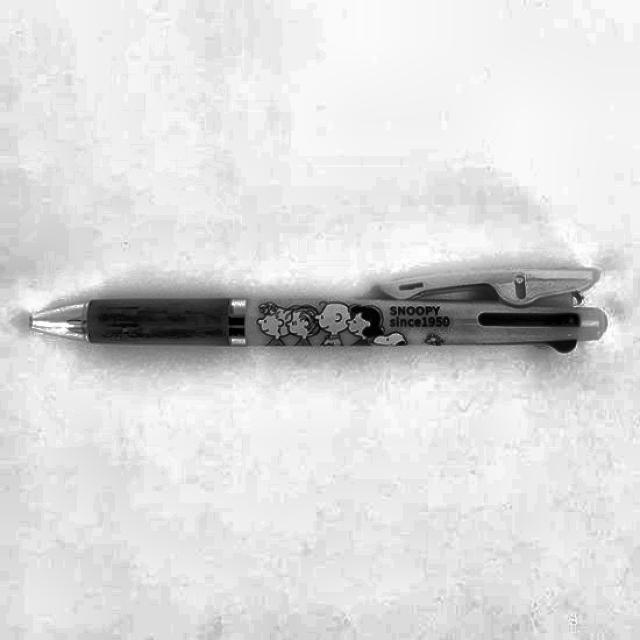Pen: (21, 244, 616, 363)
